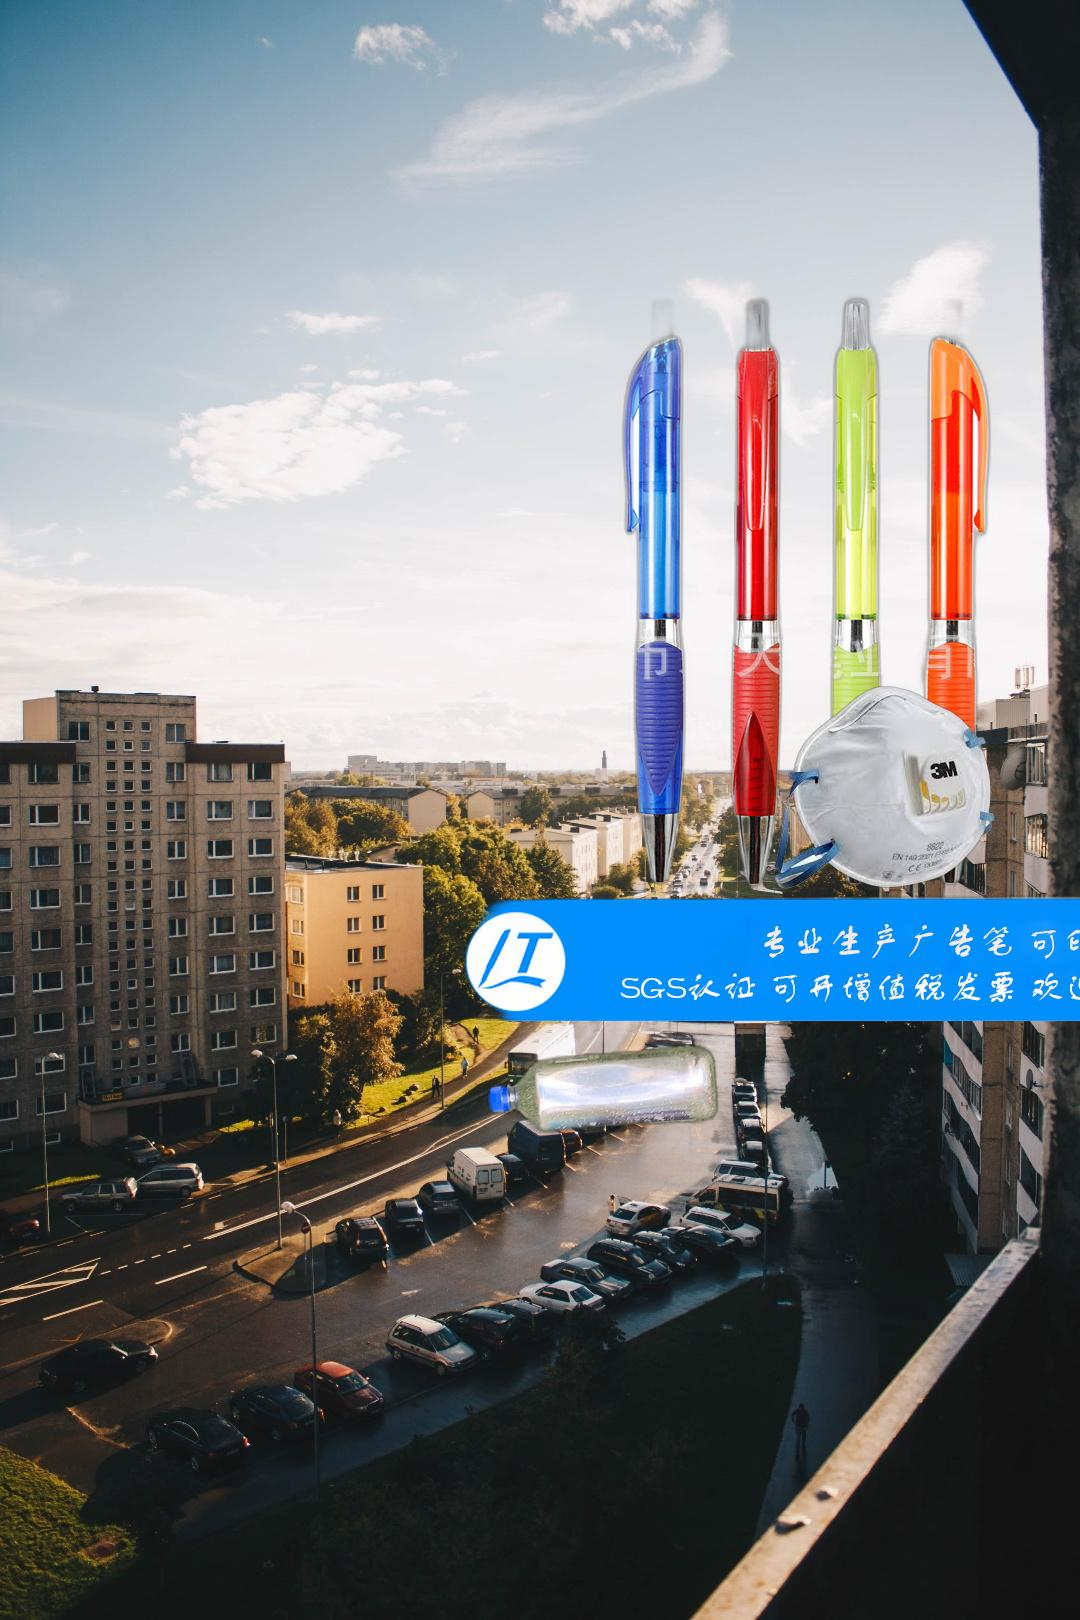penholder: (444, 292, 1080, 1021)
plastic-bottles: (485, 1039, 721, 1139)
trash: (771, 683, 997, 900)
